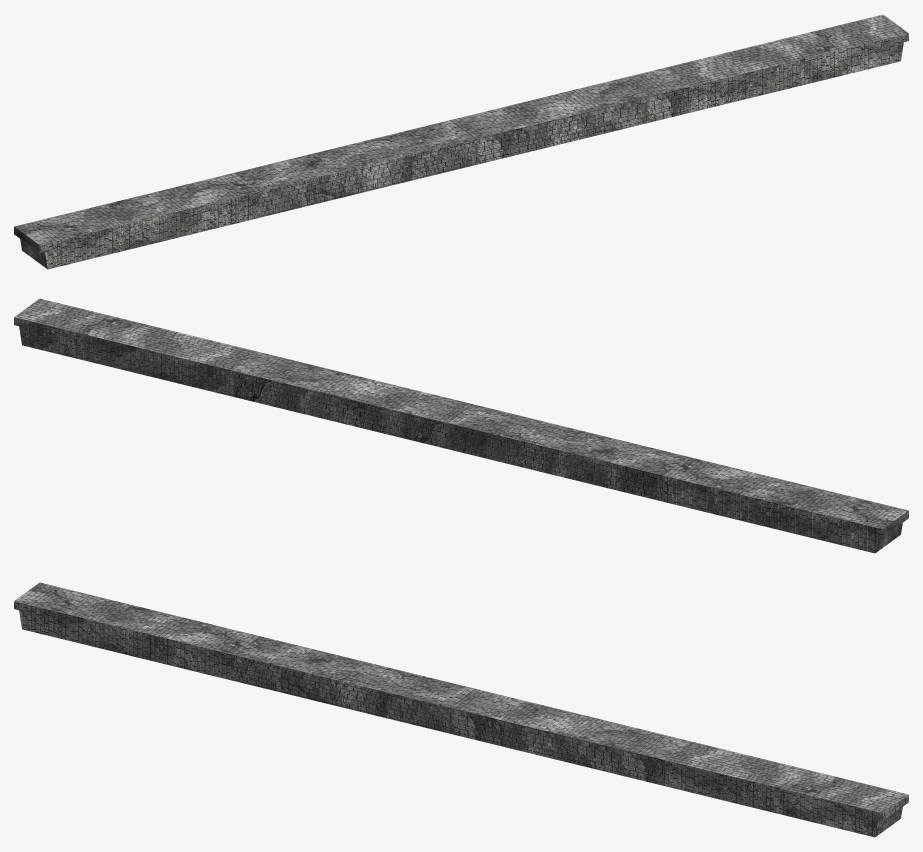
File: opora3_kzdm.gltf
3 renders of one model, top to bottom at view 1: azimuth 30°, elevation 25°; view 2: azimuth 150°, elevation 25°; view 3: azimuth 330°, elevation 25°, orthographic.
Bounding box in the file's own units: 76.64 × 2.2 × 3.93.
Materials: 1 (1 with a texture image).
